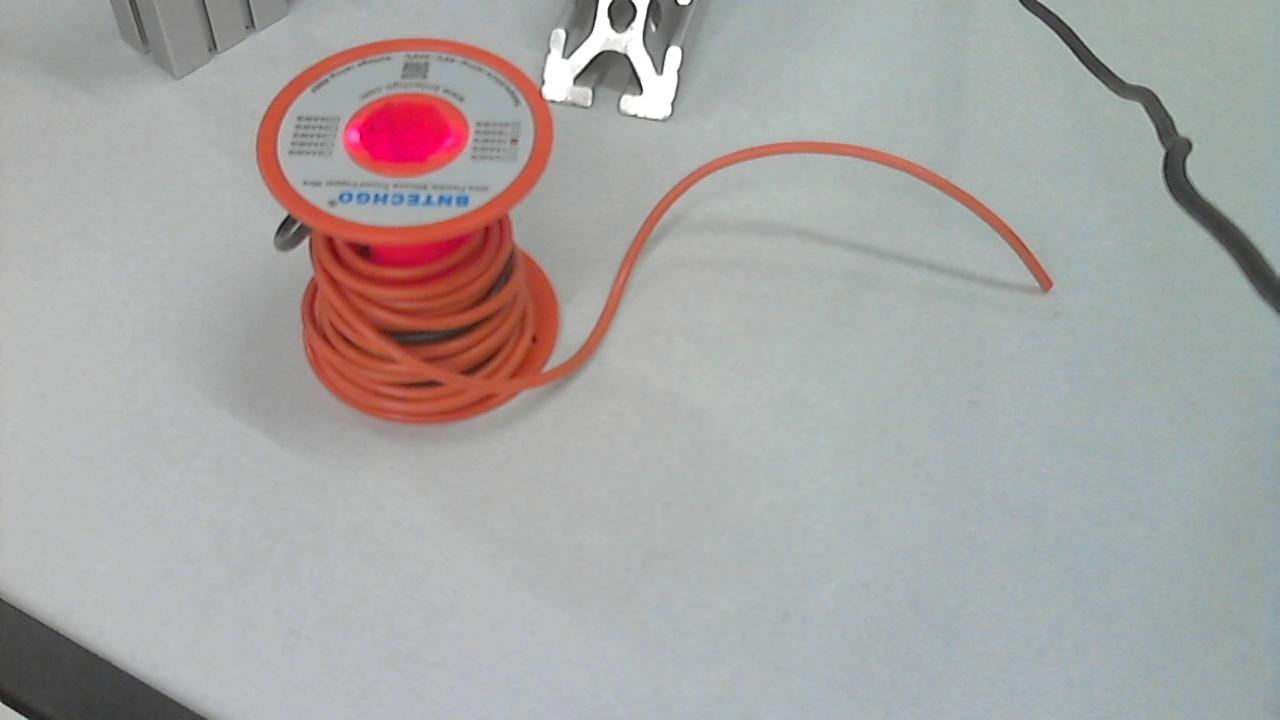Object wire spool -Material plastic - Color oranges - Pdfname ZryFz3DBSiO8: (331, 97, 482, 175)
